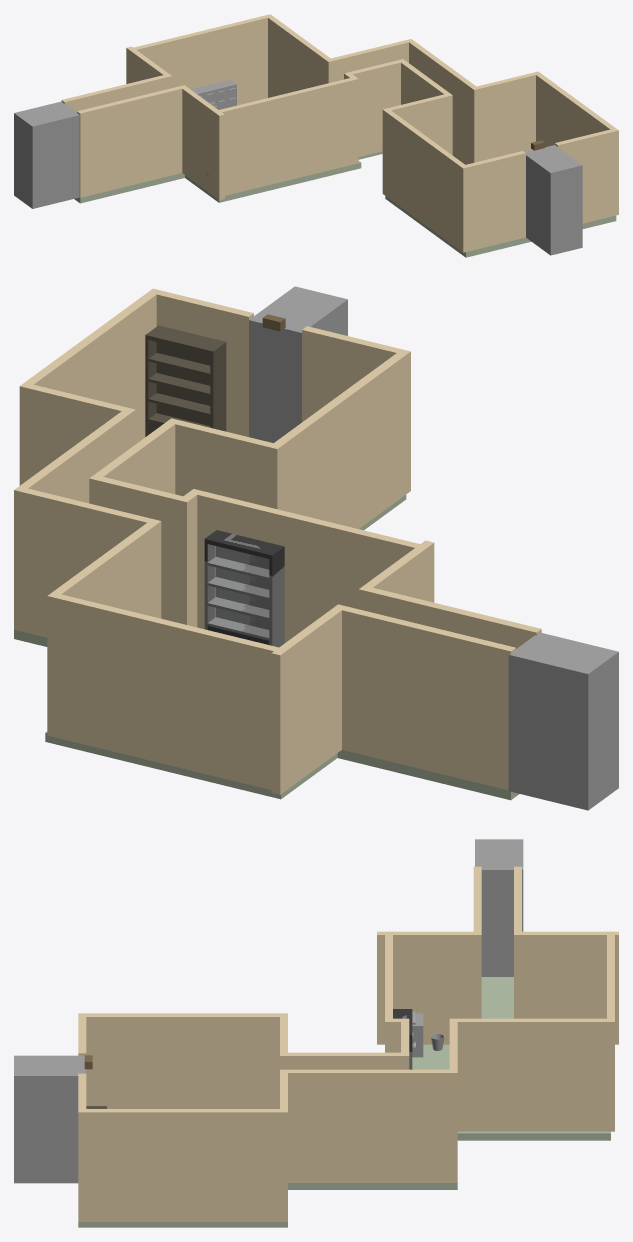
File: Tutorial.fbx
3 renders of one model, top to bottom at view 1: azimuth 30°, elevation 25°; view 2: azimuth 150°, elevation 25°; view 3: azimuth 270°, elevation 25°, orthographic. The views are drawn at different scales.
Parts seen in each view (by area): view 1: Cube__14_, Cube__3_, Cube__15__1, Cube__7_, ascensore, Cube__17_, ascensore1, Cube__19_, Cube__6_, Cube__18_, Cube__8_, Cube__16_ (+10 smaller); view 2: Cube__7_, Cube__2_, ascensore, Cube__15__1, Cube__14_, Cube__5_, Cube__10_, Cube__16_, ascensore1, Libreria4, Libreria2, Cube__4_ (+11 smaller); view 3: Cube__16_, Cube__15__1, Cube__12_, Cube__8_, Cube__6_, Cube__5_, ascensore1, ascensore, Cube, Cube__13_, Cube__7_, Cube__10_ (+9 smaller).
Part boxes in pixels (box(x1,y1,x2,y2)): Cube__14_: box(219, 76, 358, 195); Cube__3_: box(77, 86, 182, 197); Cube__15__1: box(382, 108, 464, 249); Cube__7_: box(132, 14, 272, 105); ascensore: box(14, 101, 79, 208); Cube__17_: box(460, 151, 525, 252); ascensore1: box(525, 145, 582, 255); Cube__19_: box(471, 73, 535, 163); Cube__6_: box(179, 85, 224, 200); Cube__18_: box(555, 128, 618, 223); Cube__8_: box(267, 15, 333, 97); Cube__16_: box(533, 71, 615, 147); Cube__7_: box(47, 592, 282, 789); Cube__2_: box(338, 605, 515, 790); ascensore: box(508, 632, 618, 810); Cube__15__1: box(268, 353, 405, 528); Cube__14_: box(189, 489, 423, 642); Cube__5_: box(271, 604, 346, 794); Cube__10_: box(14, 486, 151, 637); Cube__16_: box(19, 292, 156, 485); ascensore1: box(249, 286, 347, 442); Libreria4: box(204, 530, 284, 647); Libreria2: box(145, 325, 226, 436); Cube__4_: box(98, 477, 197, 627); Cube__16_: box(86, 1109, 287, 1221); Cube__15__1: box(86, 1013, 287, 1108); Cube__12_: box(288, 1069, 449, 1182); Cube__8_: box(449, 1018, 610, 1131); Cube__6_: box(377, 931, 481, 1044); Cube__5_: box(514, 931, 618, 1044); ascensore1: box(14, 1055, 86, 1183); ascensore: box(475, 839, 523, 976); Cube: box(412, 1044, 610, 1140); Cube__13_: box(288, 1052, 409, 1069); Cube__7_: box(607, 933, 614, 1131); Cube__10_: box(449, 1022, 457, 1182).
Bounding box in the file's own units: 80.78 × 16.66 × 74.97.
